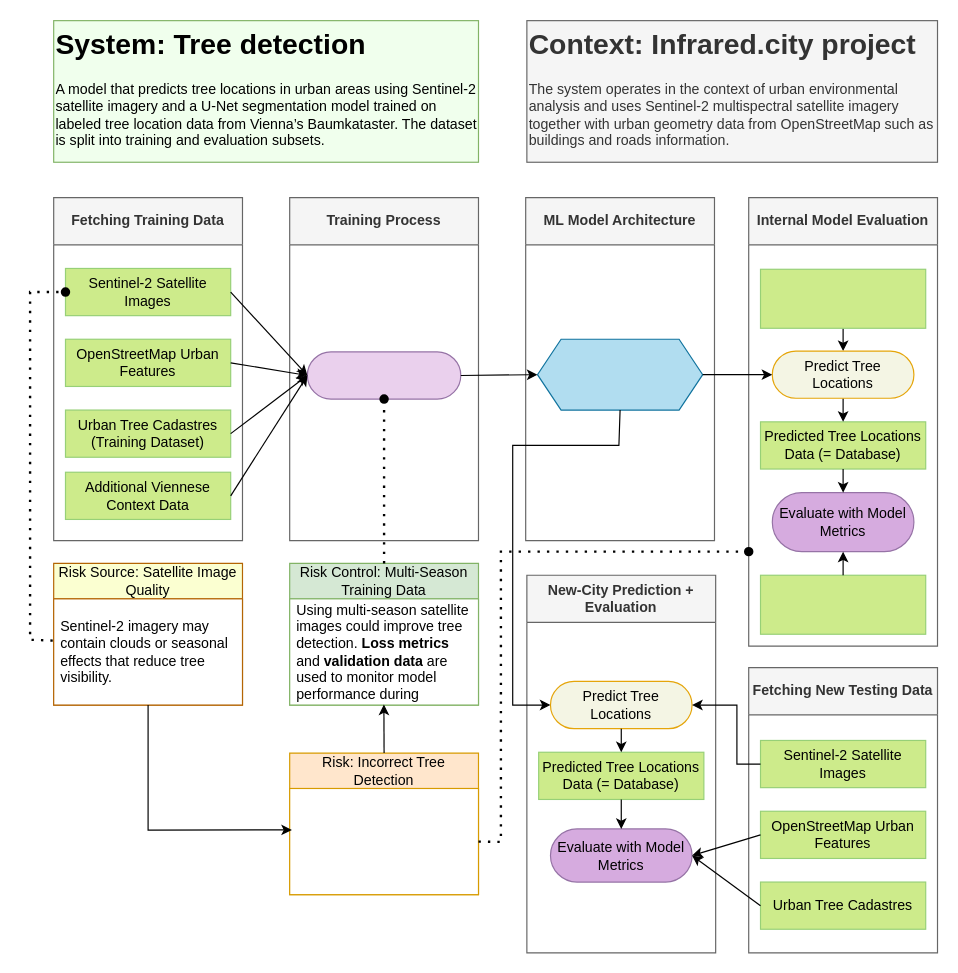
This 958x973 diagram has some shape labels left out. Each missing label, with the centre of its shape:
Context, OSM & Tree Cadastres Data: the point at 842,604
Sentinel- 2 Satellite Images (Unseen Test Dataset): the point at 842,298
The model may misclassify or miss trees in dense urban areas.: the point at 383,841
Train U-Net Model: the point at 383,375
Trained U- Net Segmentation Model: the point at 619,374
